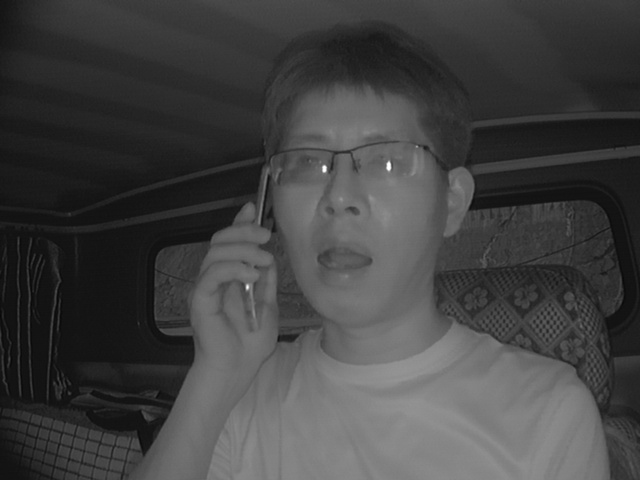hand: (179, 203, 298, 374)
